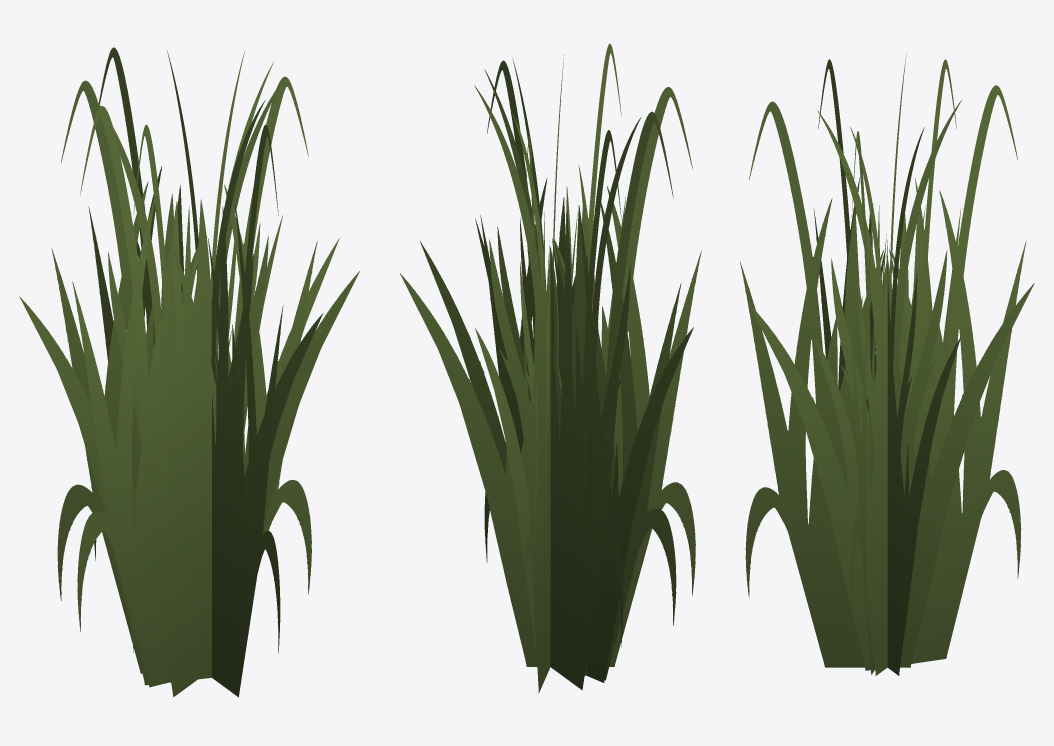
Rendered from Herbe01.fbx.
The picture shows the model from 3 angles, left to right: view 1: azimuth 30°, elevation 25°; view 2: azimuth 150°, elevation 25°; view 3: azimuth 270°, elevation 25°; orthographic projection. The views are drawn at different scales.
Visible parts, largest first — view 1: polySurface34; view 2: polySurface34; view 3: polySurface34.
Part boxes in pixels (<box>): polySurface34: <box>19,47,359,697</box>; polySurface34: <box>399,43,701,692</box>; polySurface34: <box>740,53,1034,675</box>.
Size of the model in its own units: 0.2243 by 0.4167 by 0.2004.
